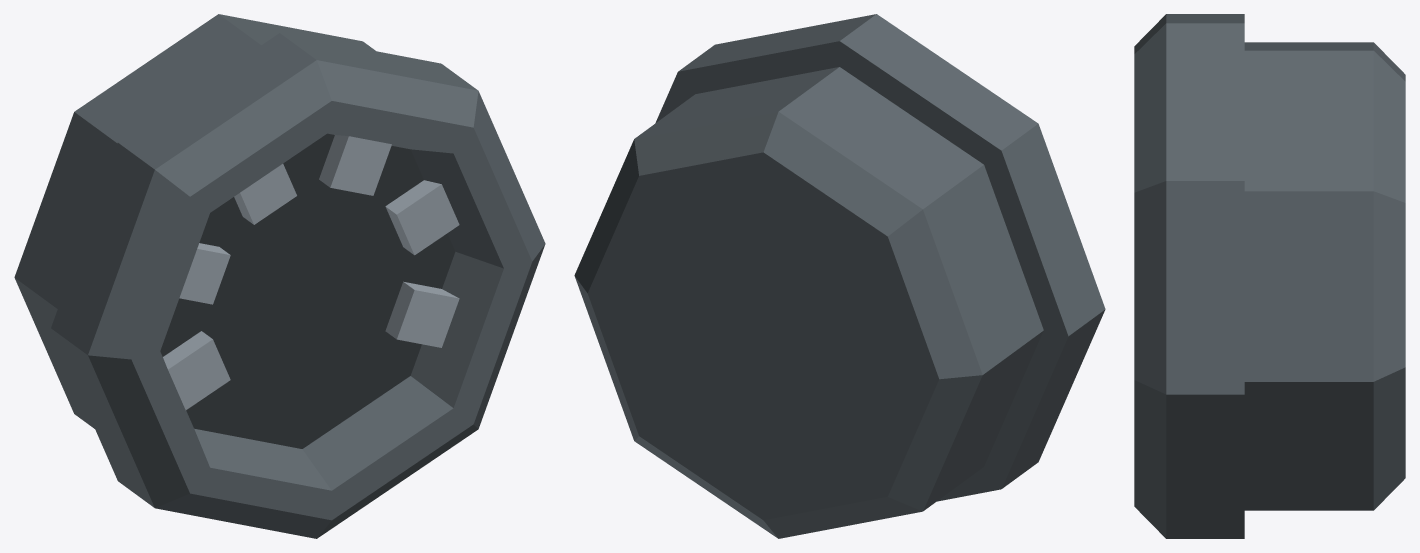
The model's file is SM_Prop_BoostGauge_01.fbx.
3 views of the same model, side by side, from view 1: azimuth 30°, elevation 25°; view 2: azimuth 150°, elevation 25°; view 3: azimuth 270°, elevation 25° (orthographic). The views are drawn at different scales.
Visible parts, largest first — view 1: SM_Prop_BoostGauge_01; view 2: SM_Prop_BoostGauge_01; view 3: SM_Prop_BoostGauge_01.
Boxes of the visible parts, x1,y1,x2,y2 form: SM_Prop_BoostGauge_01: (14, 14, 545, 538); SM_Prop_BoostGauge_01: (574, 14, 1105, 538); SM_Prop_BoostGauge_01: (1134, 14, 1405, 538).
Bounding box in the file's own units: 17.48 × 17.48 × 8.5.
